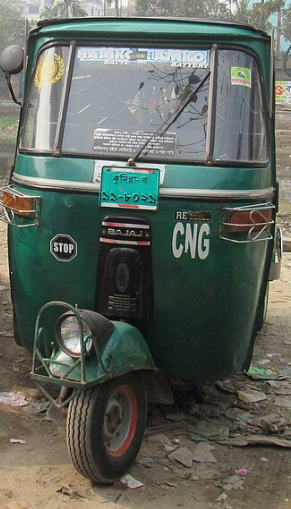cng: (9, 17, 286, 492)
